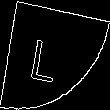L_N: (37, 27, 73, 83)
